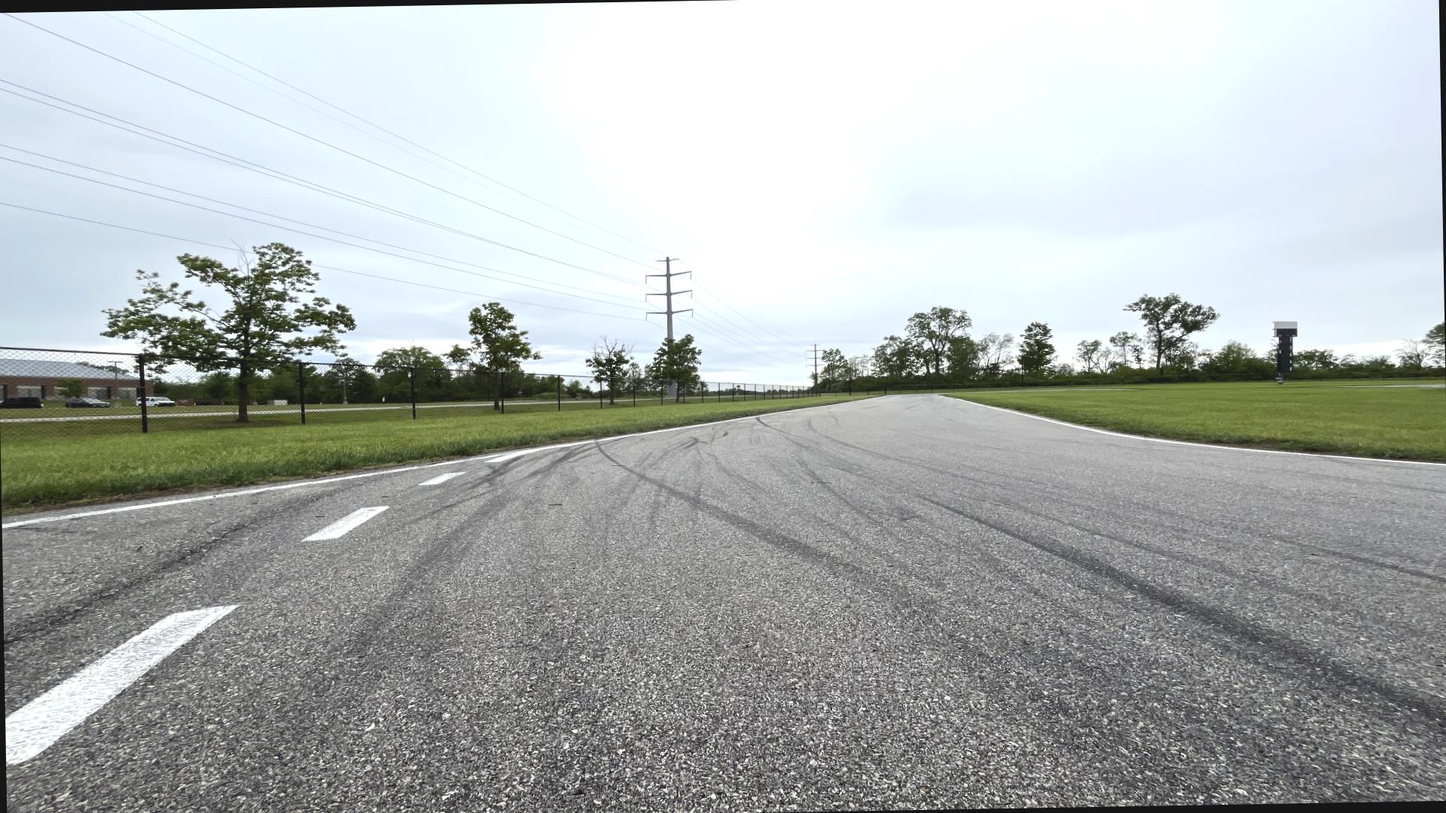white-line: (2, 396, 884, 528), (5, 605, 236, 766), (937, 396, 1445, 466), (303, 506, 387, 541), (417, 472, 465, 484)
